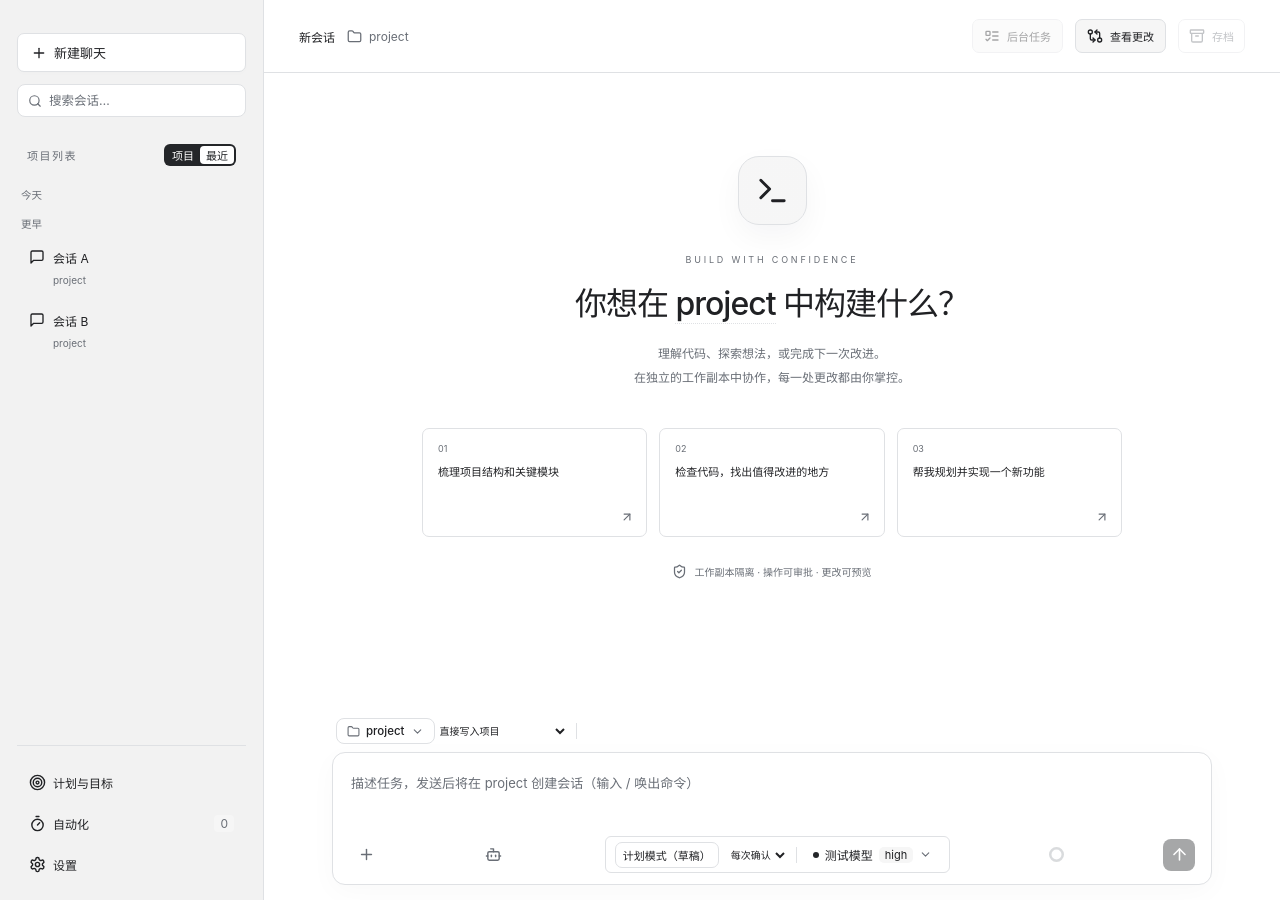
Test: 中断后继续 › 回合状态 cancelled 可以继续
Click the button "会话 A project" at (126, 268), box [17,238,236,297]
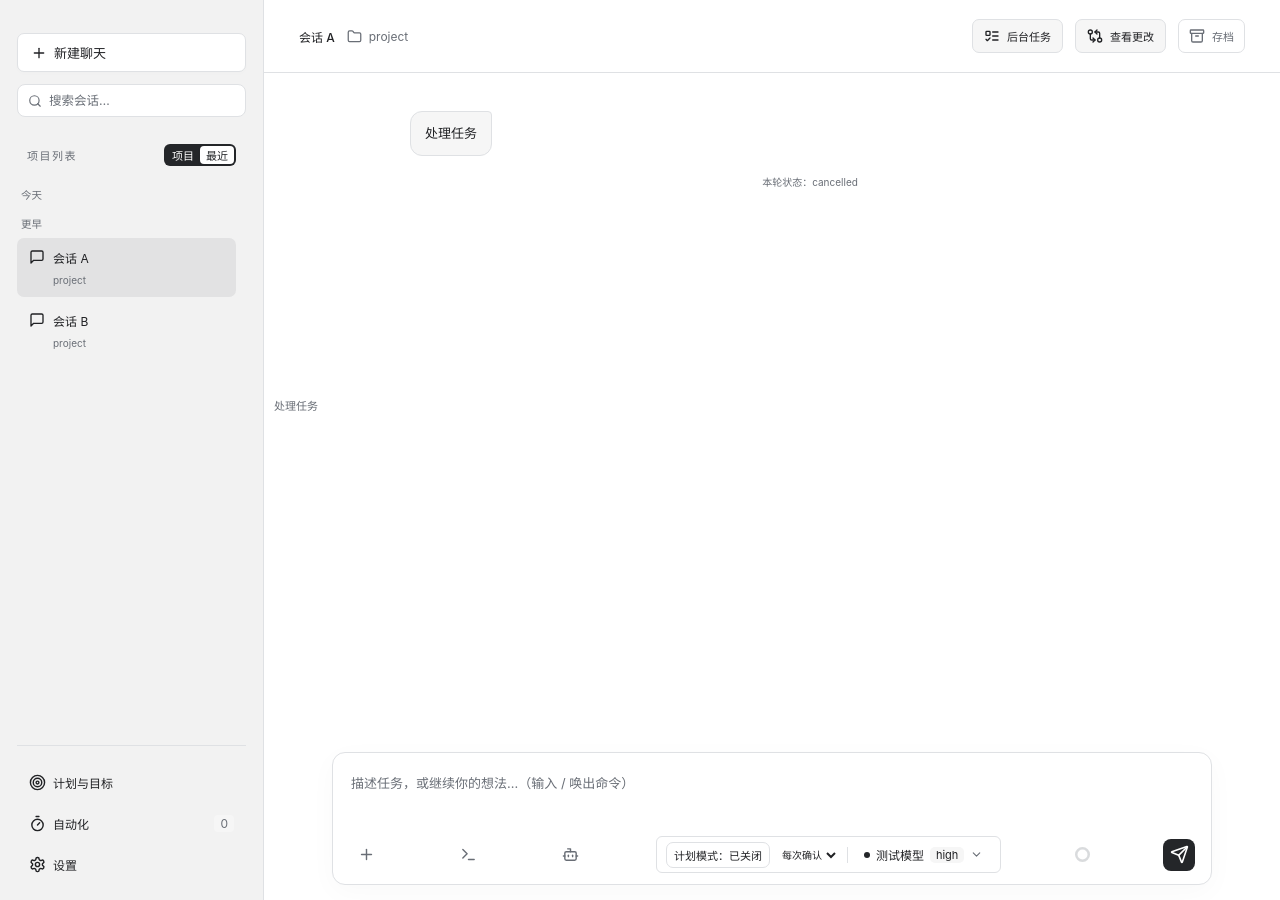
Now the 2nd text "处理任务" is shown, box [274,398,318,412]
Now the button named "继续任务" is enabled, box [1163,838,1195,870]
